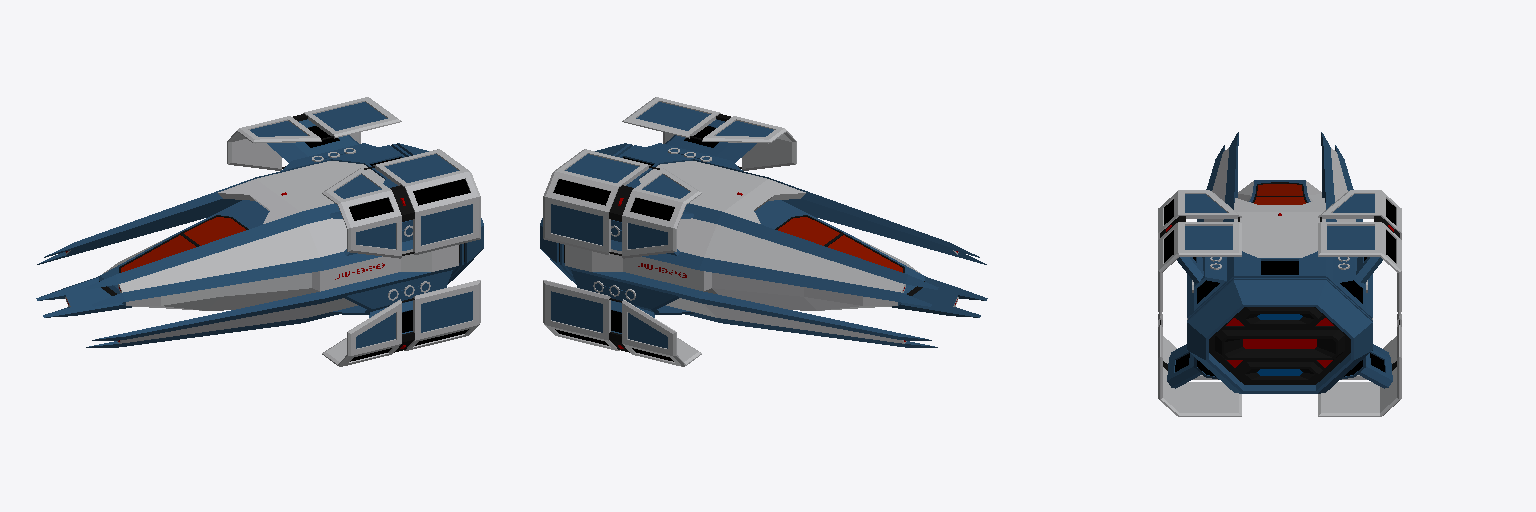
File: dortmunder.obj
3 renders of one model, left to right at view 1: azimuth 30°, elevation 25°; view 2: azimuth 150°, elevation 25°; view 3: azimuth 270°, elevation 25°, orthographic.
Visible parts, largest first — view 1: Mesh29_G_03_1_Group1_Model, Mesh4_G_02_4_Group2_Group1_Model, Mesh30_G_03_2_Group1_Model, Mesh3_G_02_3_Group2_Group1_Model, Mesh1_G_02_1_Group2_Group1_Model, Mesh6_G_01_2_Group3_Group1_Model, Mesh7_G_01_3_Group3_Group1_Model; view 2: Mesh30_G_03_2_Group1_Model, Mesh1_G_02_1_Group2_Group1_Model, Mesh29_G_03_1_Group1_Model, Mesh2_G_02_2_Group2_Group1_Model, Mesh4_G_02_4_Group2_Group1_Model, Mesh8_G_01_4_Group3_Group1_Model, Mesh5_G_01_1_Group3_Group1_Model; view 3: Mesh29_G_03_1_Group1_Model, Mesh30_G_03_2_Group1_Model, Mesh1_G_02_1_Group2_Group1_Model, Mesh4_G_02_4_Group2_Group1_Model, Mesh3_G_02_3_Group2_Group1_Model, Mesh2_G_02_2_Group2_Group1_Model, Mesh5_G_01_1_Group3_Group1_Model, Mesh7_G_01_3_Group3_Group1_Model, Mesh8_G_01_4_Group3_Group1_Model, Mesh6_G_01_2_Group3_Group1_Model.
Part boxes in pixels (x1,y1,x2,y2): Mesh29_G_03_1_Group1_Model: (85, 171, 483, 347); Mesh4_G_02_4_Group2_Group1_Model: (322, 149, 480, 258); Mesh30_G_03_2_Group1_Model: (36, 143, 428, 317); Mesh3_G_02_3_Group2_Group1_Model: (322, 280, 480, 366); Mesh1_G_02_1_Group2_Group1_Model: (227, 97, 401, 170); Mesh6_G_01_2_Group3_Group1_Model: (330, 270, 452, 333); Mesh7_G_01_3_Group3_Group1_Model: (267, 119, 377, 170); Mesh30_G_03_2_Group1_Model: (540, 171, 938, 347); Mesh1_G_02_1_Group2_Group1_Model: (543, 149, 701, 258); Mesh29_G_03_1_Group1_Model: (595, 143, 987, 317); Mesh2_G_02_2_Group2_Group1_Model: (543, 280, 701, 366); Mesh4_G_02_4_Group2_Group1_Model: (622, 97, 796, 170); Mesh8_G_01_4_Group3_Group1_Model: (571, 270, 693, 333); Mesh5_G_01_1_Group3_Group1_Model: (646, 119, 756, 170); Mesh29_G_03_1_Group1_Model: (1187, 132, 1279, 393); Mesh30_G_03_2_Group1_Model: (1280, 132, 1372, 393); Mesh1_G_02_1_Group2_Group1_Model: (1318, 190, 1401, 315); Mesh4_G_02_4_Group2_Group1_Model: (1158, 190, 1241, 315); Mesh3_G_02_3_Group2_Group1_Model: (1158, 314, 1241, 416); Mesh2_G_02_2_Group2_Group1_Model: (1318, 314, 1401, 416); Mesh5_G_01_1_Group3_Group1_Model: (1177, 257, 1226, 310); Mesh7_G_01_3_Group3_Group1_Model: (1333, 257, 1382, 310); Mesh8_G_01_4_Group3_Group1_Model: (1341, 344, 1392, 388); Mesh6_G_01_2_Group3_Group1_Model: (1167, 344, 1218, 388).
Bounding box in the file's own units: 6.76 × 2.77 × 3.72.